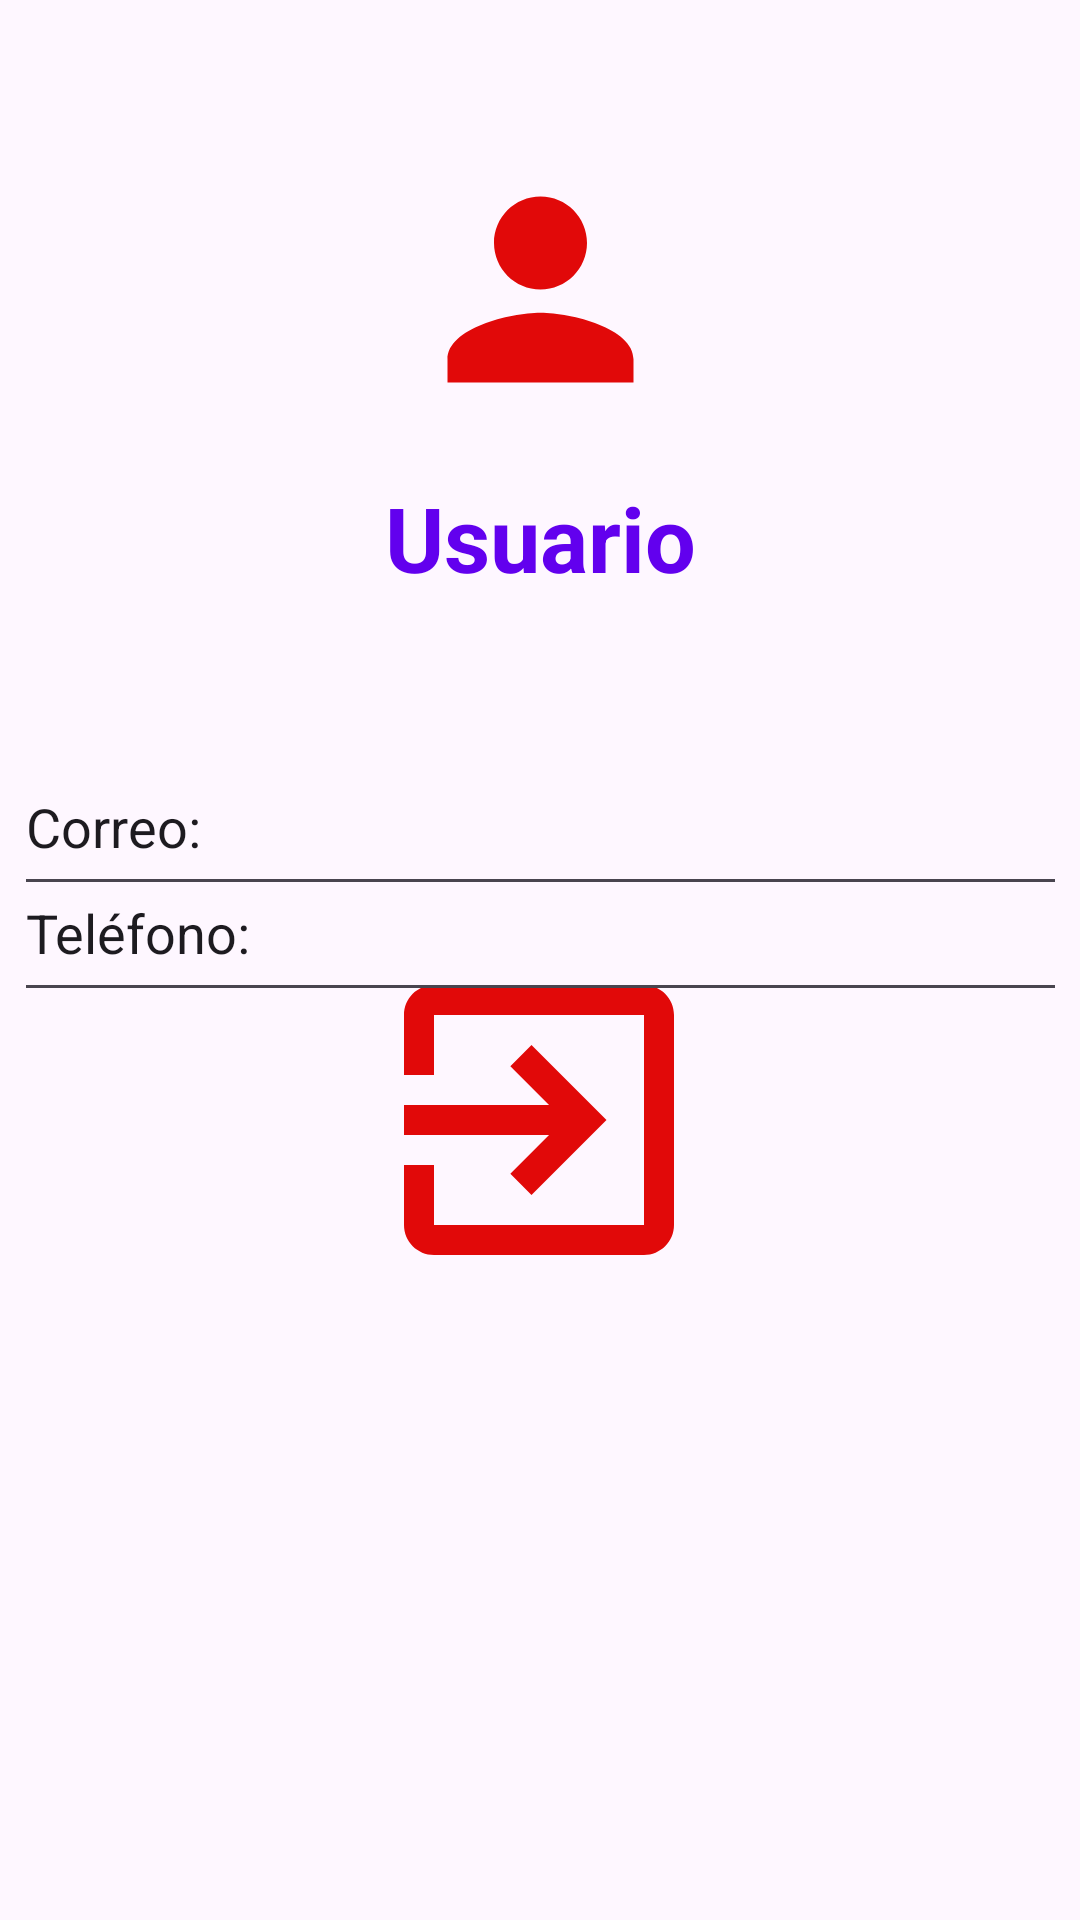

Icons on this 1080px x 1920px Android screen, each with the point to tap as (x,y):
log out: (539,1120)
user registered: (540,289)
